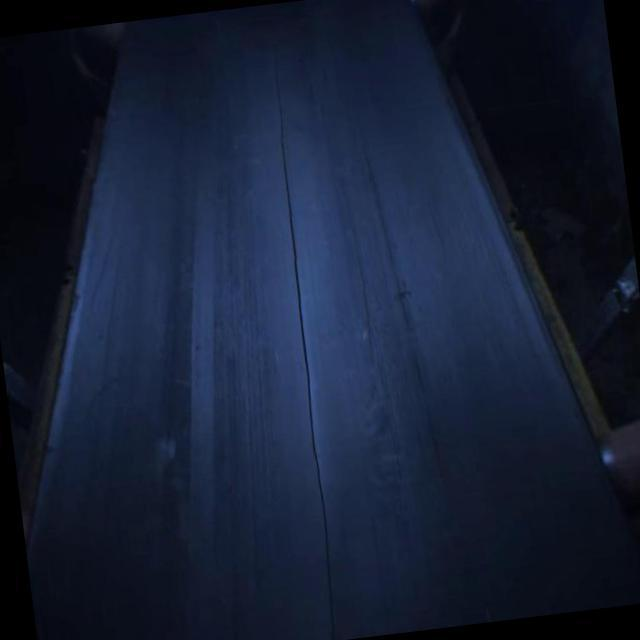Tear: (260, 42, 344, 640)
